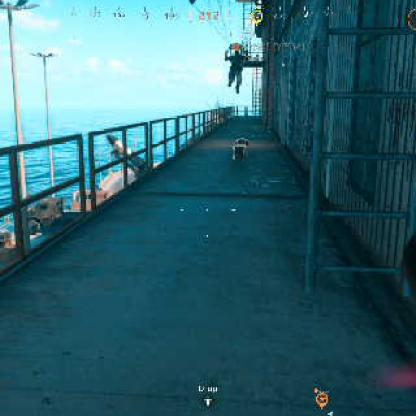enemy: (224, 46, 247, 92)
